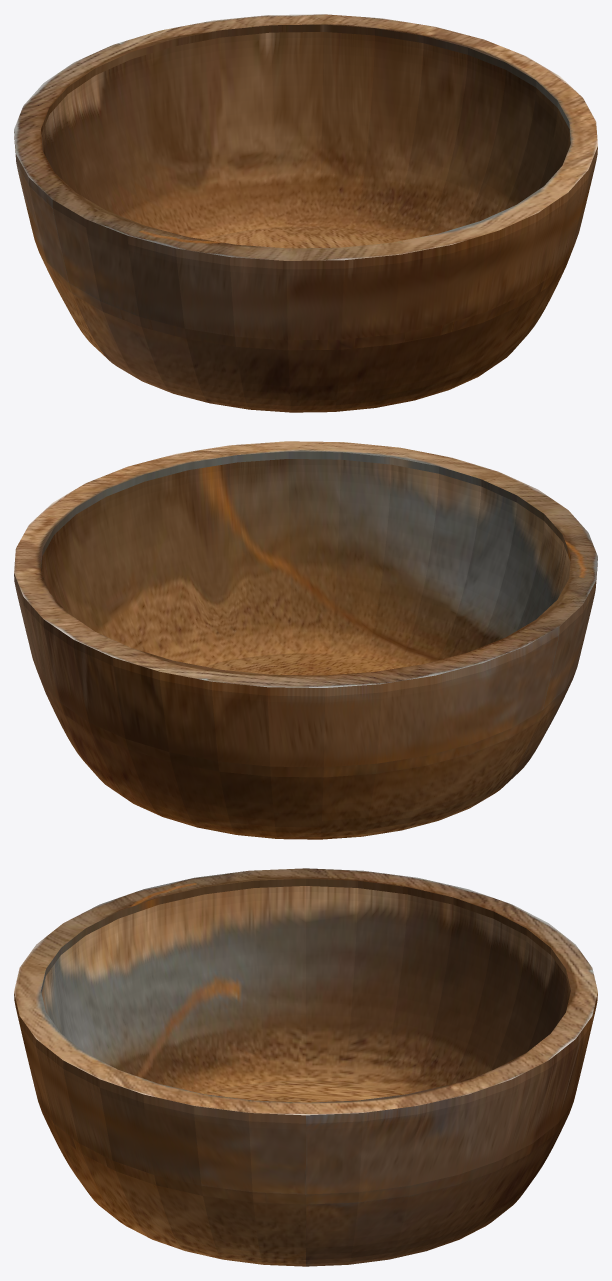
The model's file is non_grid_fill_collision.dae.
3 views of the same model, one above another, from view 1: azimuth 30°, elevation 25°; view 2: azimuth 150°, elevation 25°; view 3: azimuth 270°, elevation 25° (orthographic).
Parts seen in each view (by area): view 1: outer_bowl; view 2: outer_bowl; view 3: outer_bowl.
Boxes of the visible parts, x1,y1,x2,y2 form: outer_bowl: (14, 14, 597, 412); outer_bowl: (14, 441, 597, 839); outer_bowl: (14, 868, 597, 1266).
Size of the model in its own units: 0.1272 by 0.1271 by 0.0451.
Materials: 4 (4 with a texture image).
